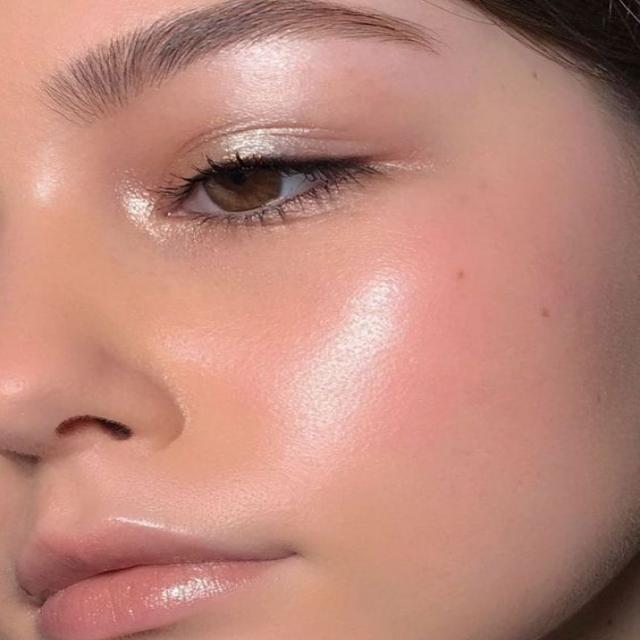oily: (322, 278, 436, 448), (72, 452, 274, 532), (20, 153, 108, 220), (228, 44, 346, 90)
